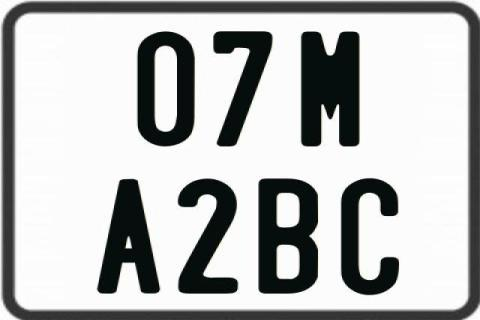0: (177, 178, 238, 296), (134, 30, 196, 146), (212, 31, 274, 147)
A: (98, 178, 160, 294)
B: (258, 177, 322, 293)
C: (338, 176, 399, 298)
M: (299, 31, 358, 149)
